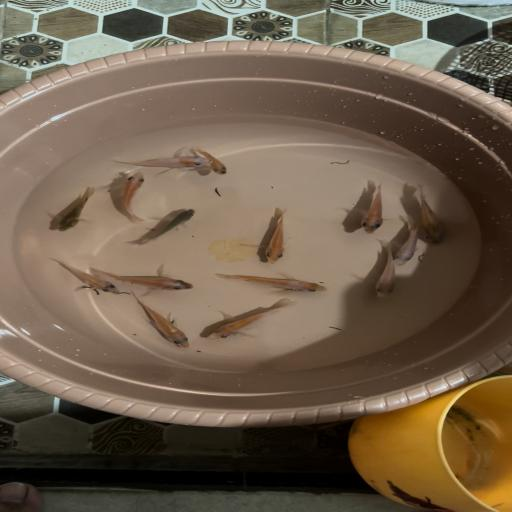nila: (204, 299, 308, 351), (122, 297, 193, 353), (36, 183, 108, 236), (129, 205, 213, 249), (41, 256, 124, 296), (407, 188, 459, 250), (221, 270, 334, 298), (97, 264, 202, 292), (254, 206, 300, 268), (352, 179, 393, 241), (112, 168, 157, 222), (106, 151, 213, 173), (366, 240, 404, 300), (390, 214, 422, 270), (194, 141, 240, 178)
